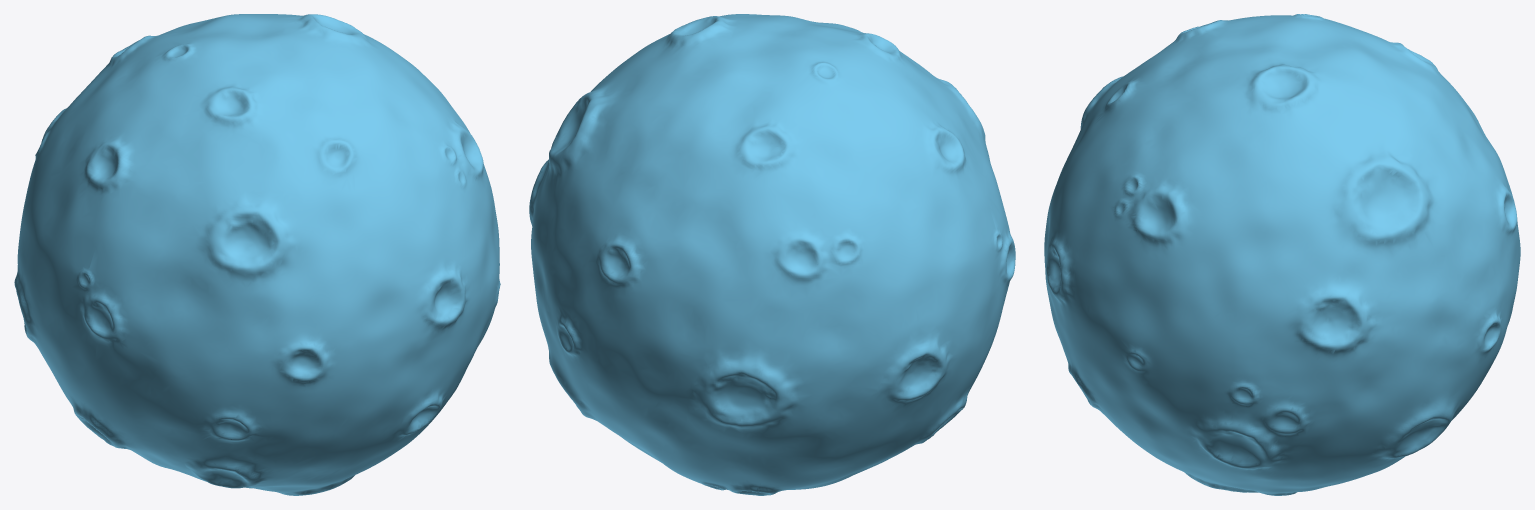
The model's file is moon-lowres-draco.glb.
3 views of the same model, side by side, from view 1: azimuth 30°, elevation 25°; view 2: azimuth 150°, elevation 25°; view 3: azimuth 270°, elevation 25° (orthographic).
Parts seen in each view (by area): view 1: Moon.002; view 2: Moon.002; view 3: Moon.002.
Part boxes in pixels (x1,y1,x2,y2): Moon.002: (14,14,500,495); Moon.002: (529,14,1015,495); Moon.002: (1044,14,1520,495).
Size of the model in its own units: 2.43 by 2.43 by 2.41.
